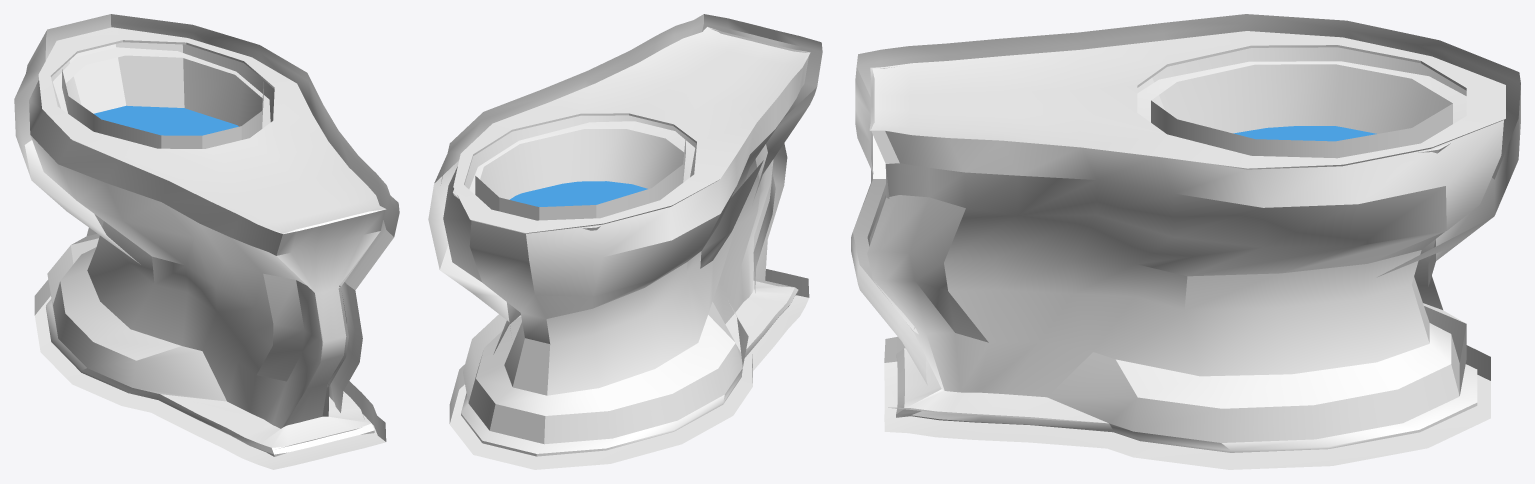
The model's file is toilet_base.gltf.
The picture shows the model from 3 angles, left to right: view 1: azimuth 30°, elevation 25°; view 2: azimuth 150°, elevation 25°; view 3: azimuth 270°, elevation 25°; orthographic projection. The views are drawn at different scales.
Parts seen in each view (by area): view 1: ToiletBody, Water; view 2: ToiletBody, Water; view 3: ToiletBody, Water.
Part boxes in pixels (<box>): ToiletBody: <box>14,14,399,469</box>; Water: <box>93,105,238,135</box>; ToiletBody: <box>428,14,822,469</box>; Water: <box>509,181,647,206</box>; ToiletBody: <box>851,14,1520,469</box>; Water: <box>1233,126,1376,141</box>.
Size of the model in its own units: 0.8201 by 0.7451 by 1.44.
